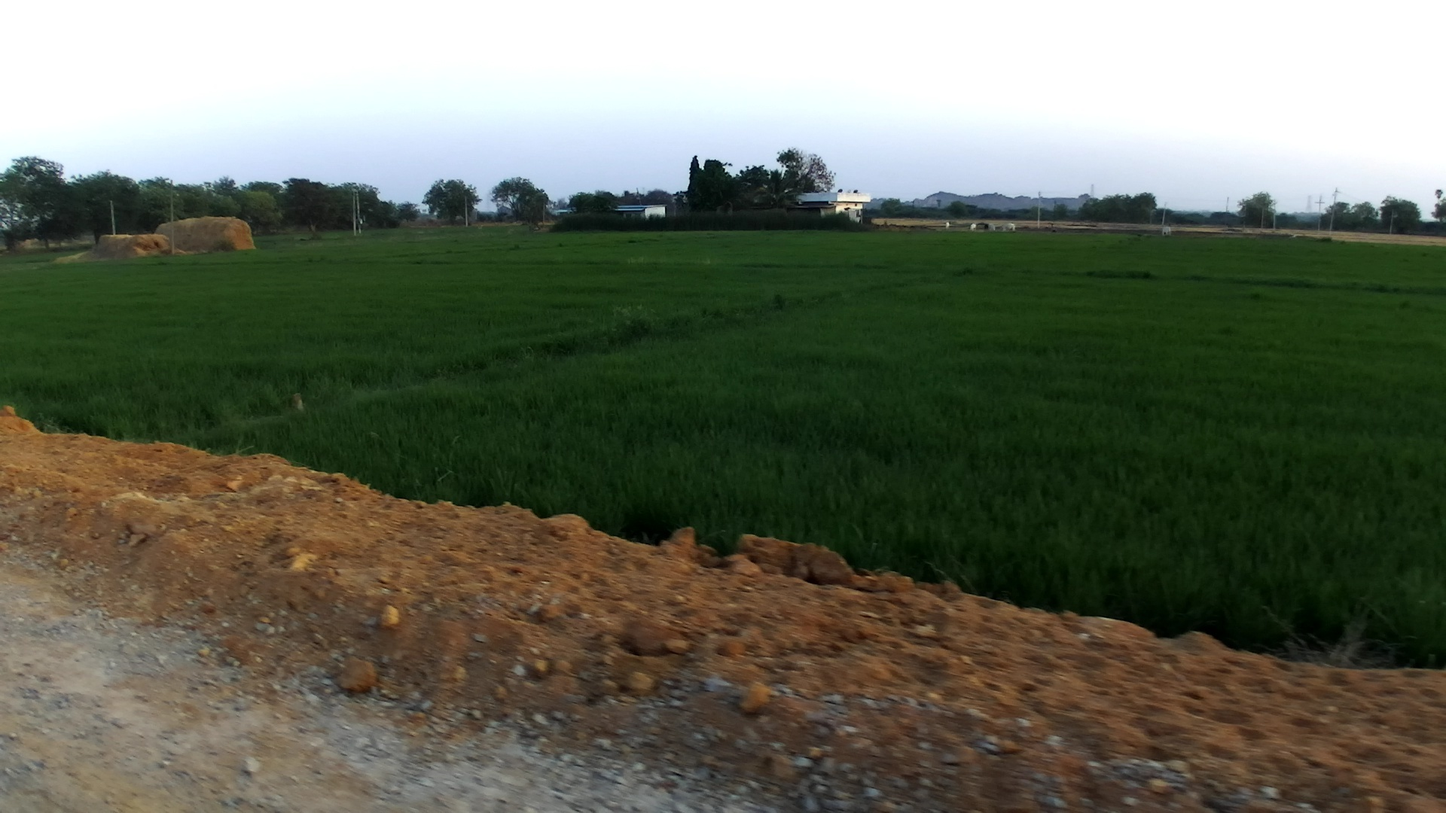animal: (1002, 223, 1017, 233), (1162, 225, 1171, 239), (968, 223, 977, 233), (987, 224, 996, 233), (944, 222, 950, 231), (984, 224, 990, 233)
